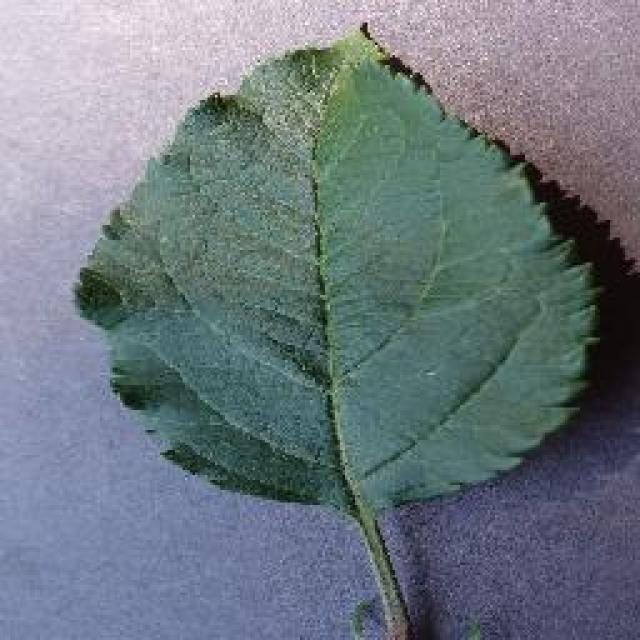Apple___healthy: (69, 23, 604, 638)
